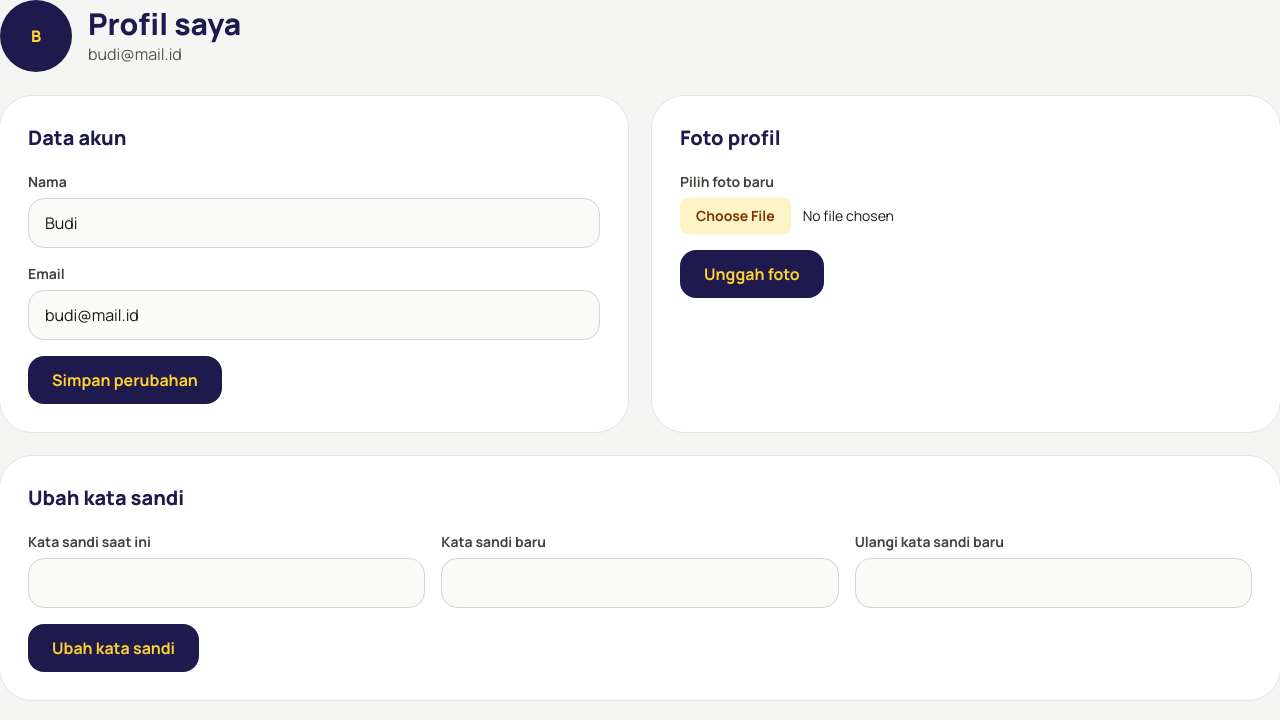
Scenario: ProfilePage: kata sandi › menolak kata sandi yang terlalu pendek
expect the field labelled "Nama" holds "Budi": met, box [28,198,600,248]
What coordinates should you click on to do the following:
click the button "Ubah kata sandi"
I would click on:
 (114, 648)
Its box is [28,624,199,672].
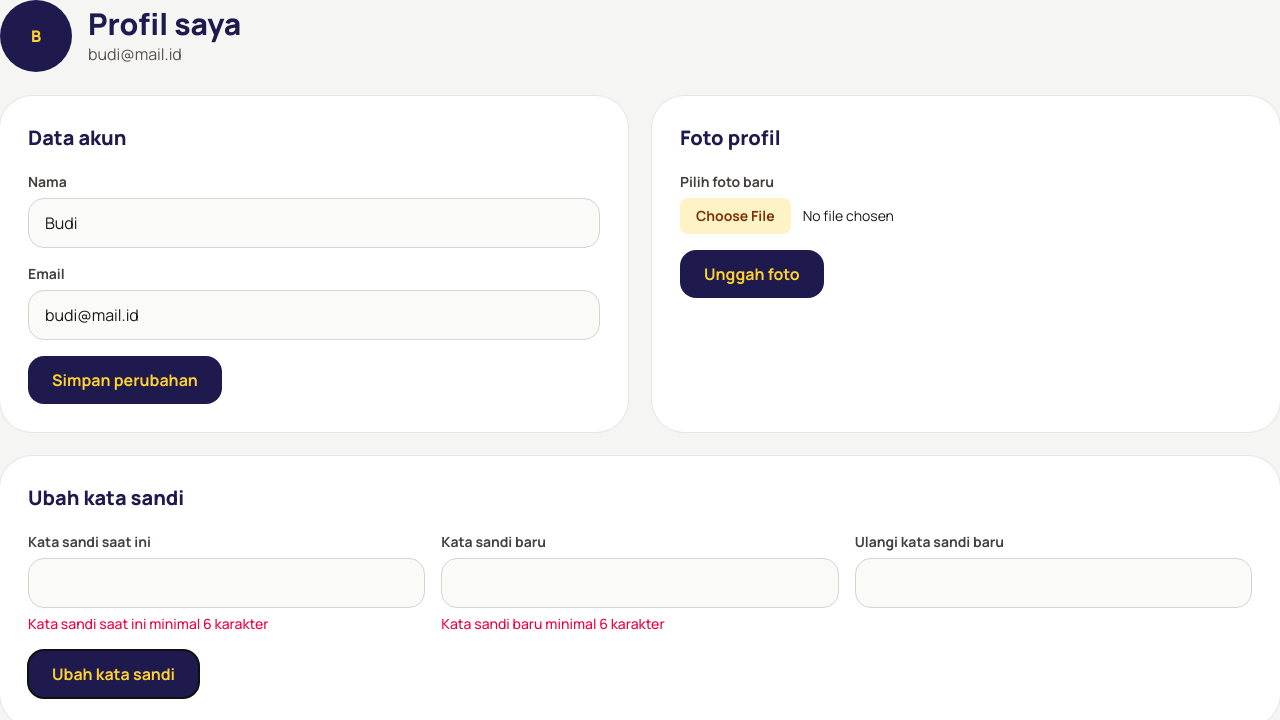
expect the text "Kata sandi saat ini minimal 6 karakter" is shown: met, box [28,614,268,633]
expect the text "Kata sandi baru minimal 6 karakter" is shown: met, box [441,614,665,633]
